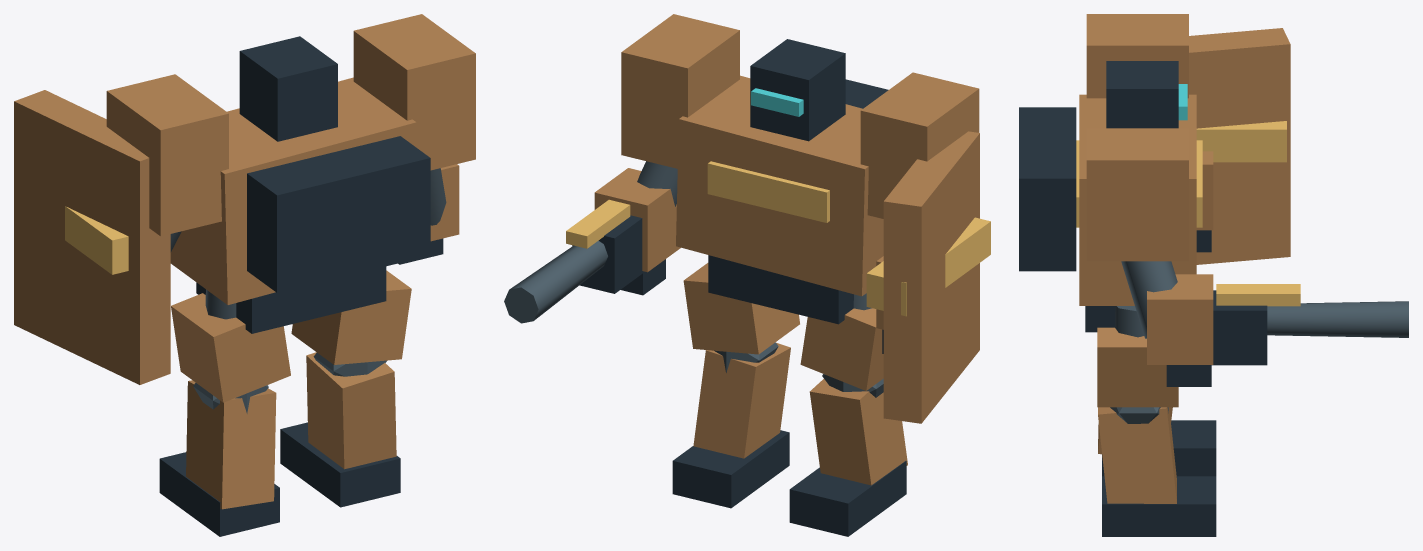
Rendered from frame-drake.glb.
3 views of the same model, side by side, from view 1: azimuth 30°, elevation 25°; view 2: azimuth 150°, elevation 25°; view 3: azimuth 270°, elevation 25° (orthographic). The views are drawn at different scales.
Parts seen in each view (by area): view 1: frame-drake; view 2: frame-drake; view 3: frame-drake.
Boxes of the visible parts, x1,y1,x2,y2 form: frame-drake: [14, 14, 475, 536]; frame-drake: [504, 14, 990, 536]; frame-drake: [1019, 14, 1408, 536].
Size of the model in its own units: 1.36 by 1.54 by 1.29.
